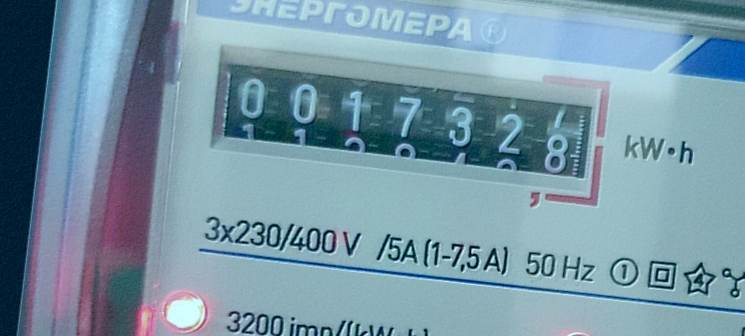0: (234, 74, 271, 122), (288, 78, 322, 127)
1: (342, 85, 368, 134)
2: (493, 109, 527, 157)
3: (445, 103, 477, 149)
7: (391, 93, 423, 142)
8: (540, 131, 570, 175)
screen: (197, 37, 620, 212)
